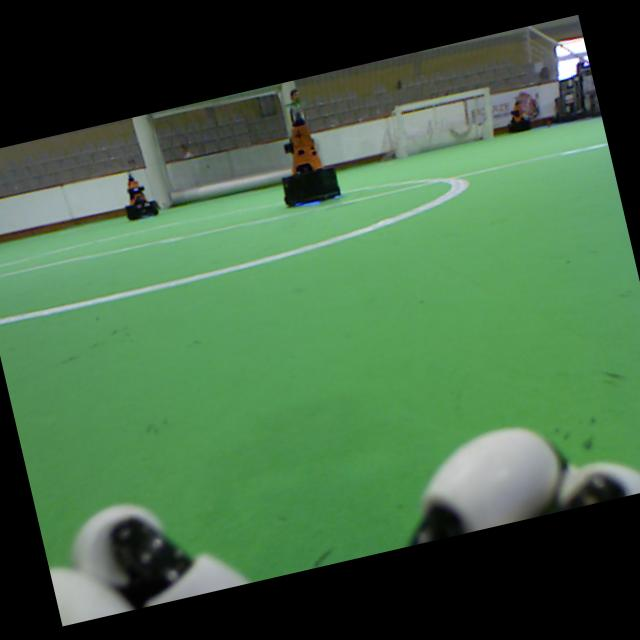goal: (395, 106, 409, 157), (483, 87, 493, 139)
robot: (282, 100, 340, 207), (125, 172, 157, 220), (507, 97, 529, 131)
